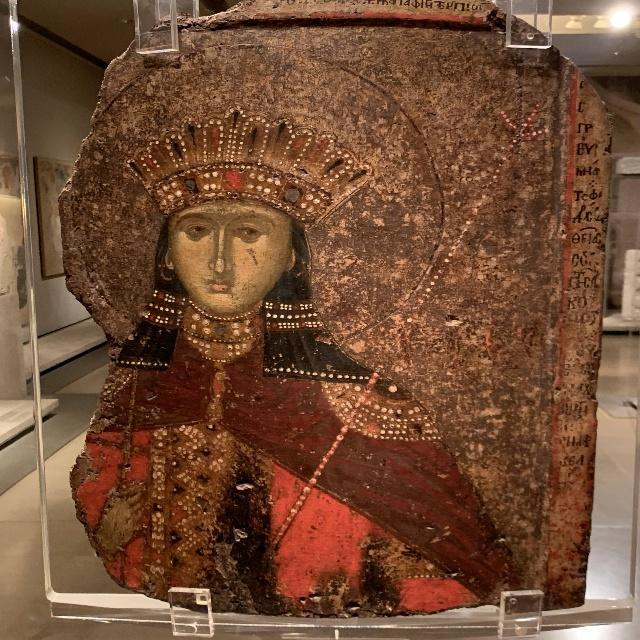aura: (60, 48, 450, 350)
crown: (118, 105, 386, 221)
scepter: (258, 86, 573, 594)
st_catherine: (48, 37, 543, 618)
